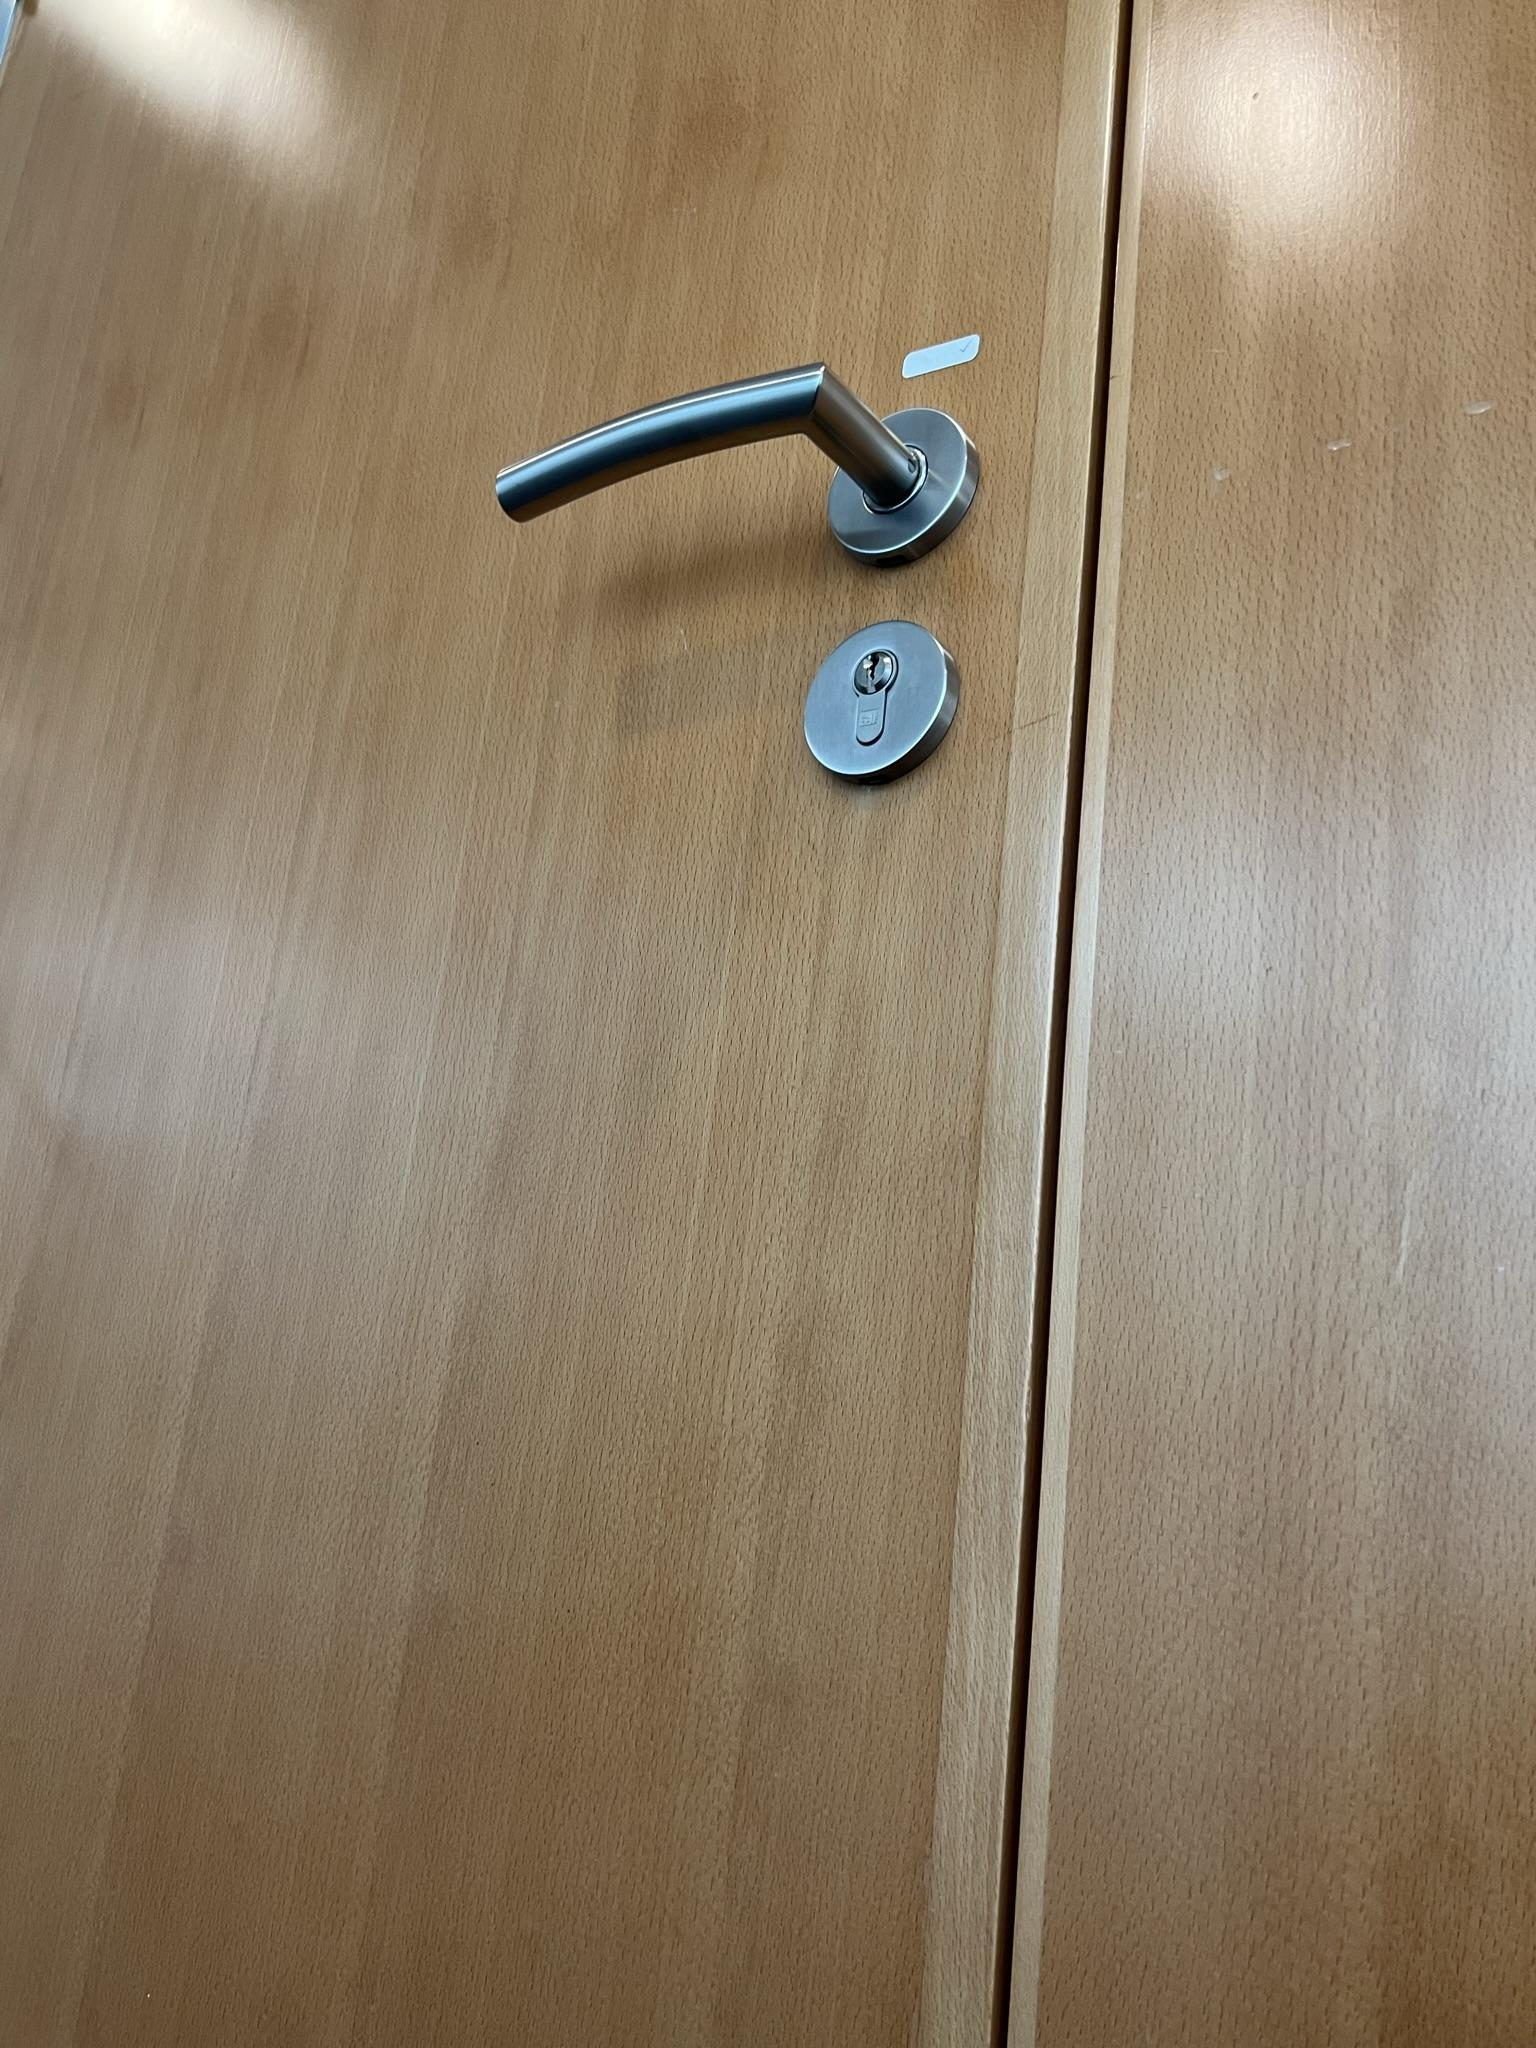door: (23, 2, 1068, 2035)
handle: (466, 331, 997, 574)
